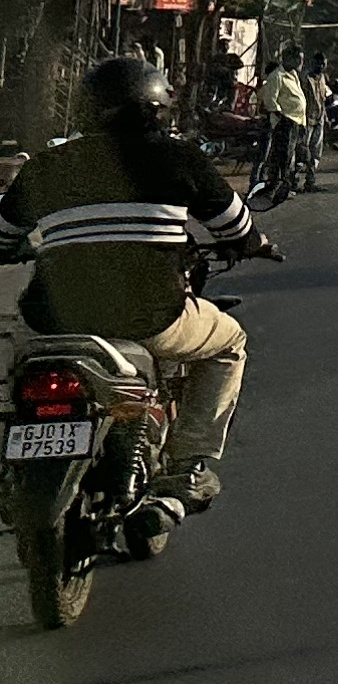BikeWithRider: (0, 55, 290, 637)
Helmet: (71, 57, 178, 144)
